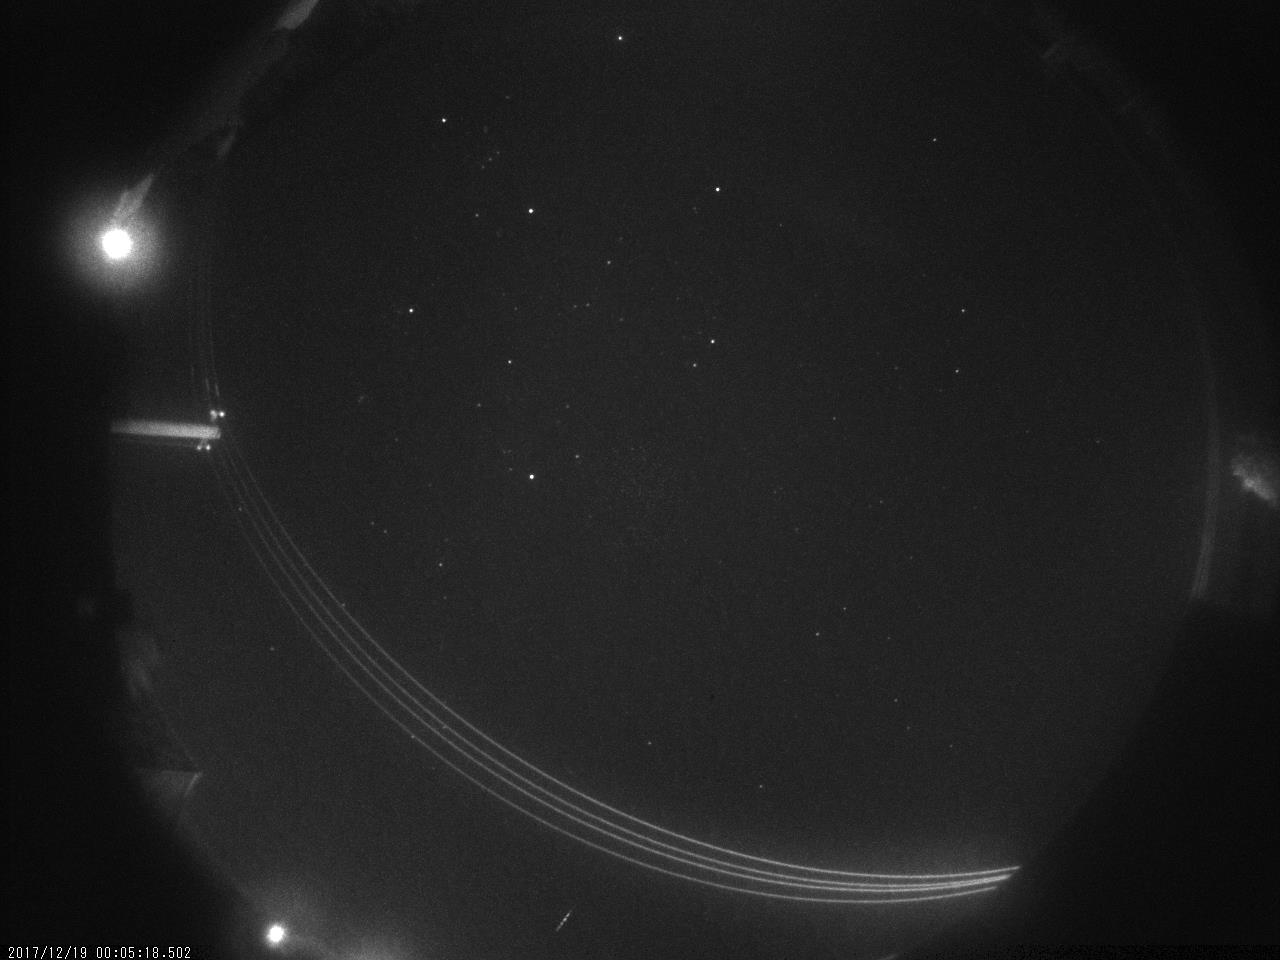meteor: (543, 894, 587, 942)
